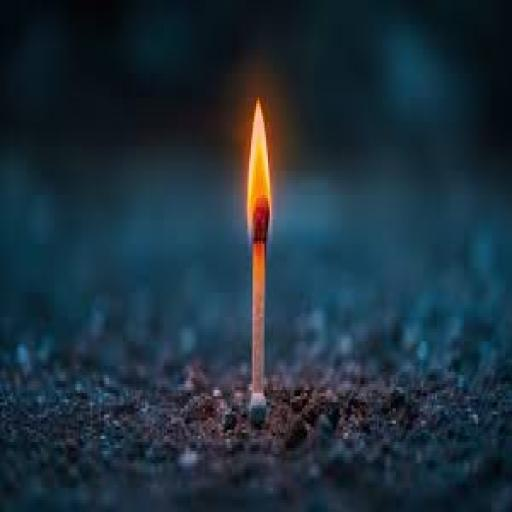fire: (220, 88, 309, 253)
